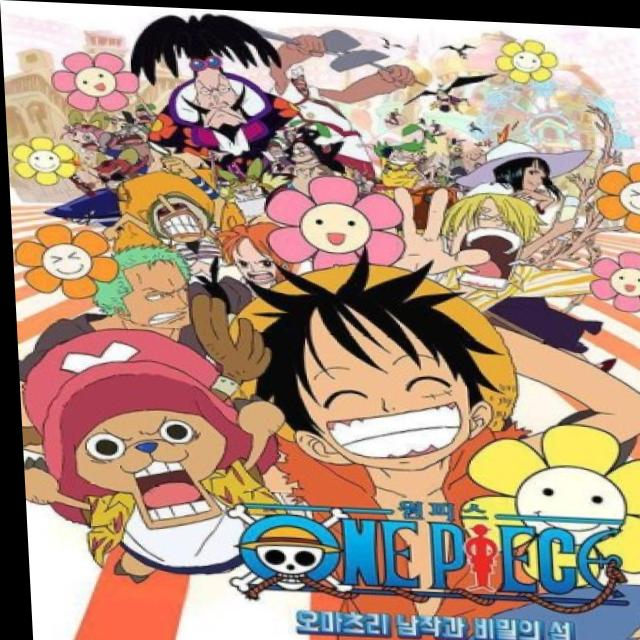Chyopa: (13, 319, 263, 556)
Luffy: (242, 266, 493, 467)
Nami: (211, 212, 294, 286)
NicoRobin: (458, 132, 591, 193)
Sangdi: (422, 189, 543, 291)
Usopp: (137, 189, 208, 242)
Zoro: (84, 232, 211, 324)
